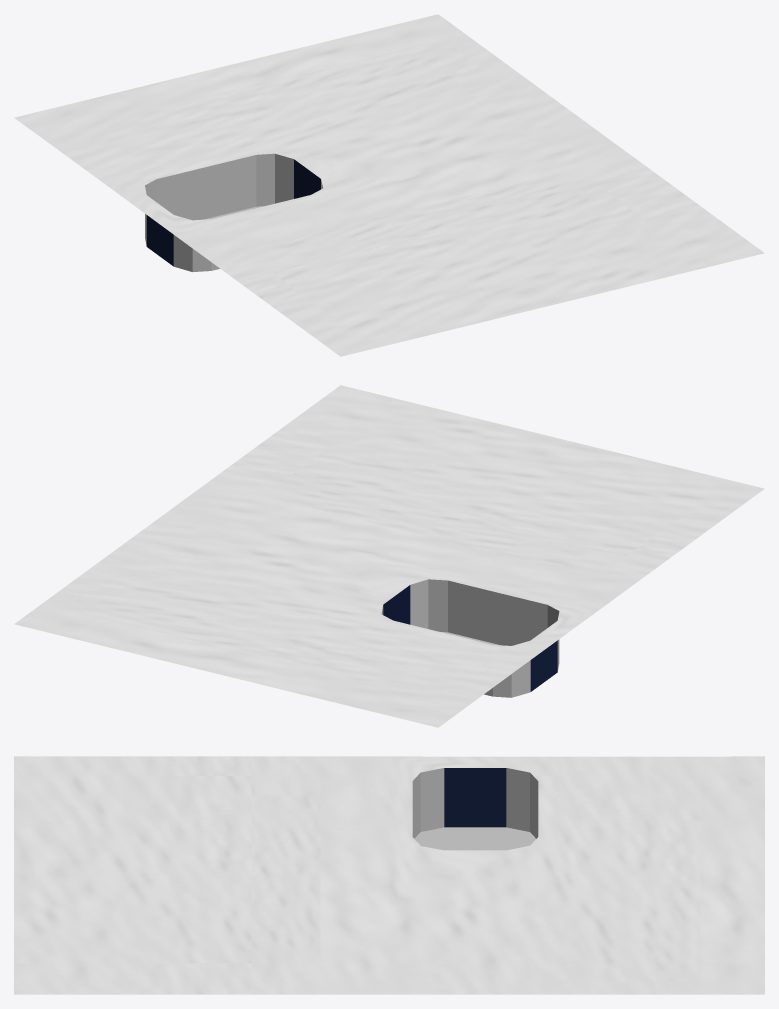
File: hole02.FBX
The picture shows the model from 3 angles, top to bottom: view 1: azimuth 30°, elevation 25°; view 2: azimuth 150°, elevation 25°; view 3: azimuth 270°, elevation 25°; orthographic projection. The views are drawn at different scales.
Visible parts, largest first — view 1: modelRoad061; view 2: modelRoad061; view 3: modelRoad061.
Boxes of the visible parts, x1=… form: modelRoad061: x1=14, y1=14, x2=764, y2=356; modelRoad061: x1=14, y1=385, x2=764, y2=727; modelRoad061: x1=14, y1=756, x2=764, y2=994.
Size of the model in its own units: 600 by 70 by 800.
